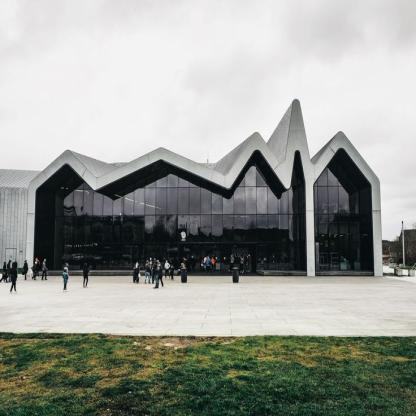Building Outline: (25, 99, 383, 276)
Dont: (144, 256, 175, 289), (228, 252, 252, 283), (31, 258, 48, 280), (200, 255, 218, 274), (176, 256, 188, 283), (62, 262, 69, 292), (82, 262, 90, 288), (132, 262, 141, 283), (21, 259, 29, 280)
Door: (180, 243, 256, 276)
Door Hole: (33, 149, 307, 271), (313, 148, 374, 272)
Facade: (35, 178, 378, 276)
Glass Wall: (53, 159, 300, 271), (314, 158, 361, 271)
Roof: (197, 132, 255, 176), (266, 100, 293, 164), (71, 150, 129, 178), (311, 133, 337, 164)
